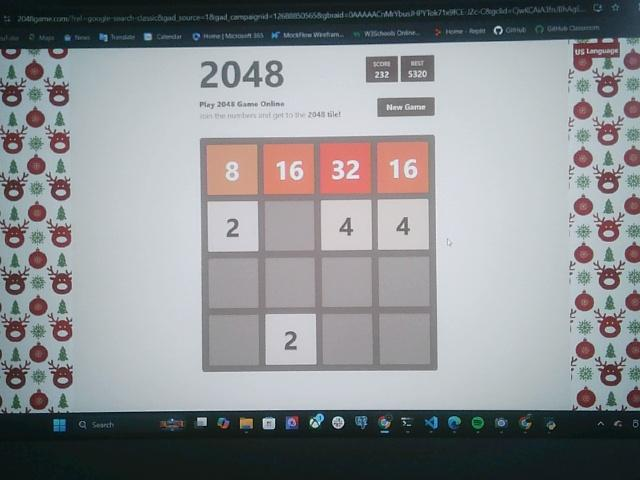board: (201, 137, 437, 372)
tile: (377, 141, 429, 194), (321, 200, 373, 252), (265, 313, 316, 366), (320, 143, 371, 194), (379, 199, 430, 250), (264, 143, 315, 193), (208, 201, 258, 252), (208, 144, 258, 194)
